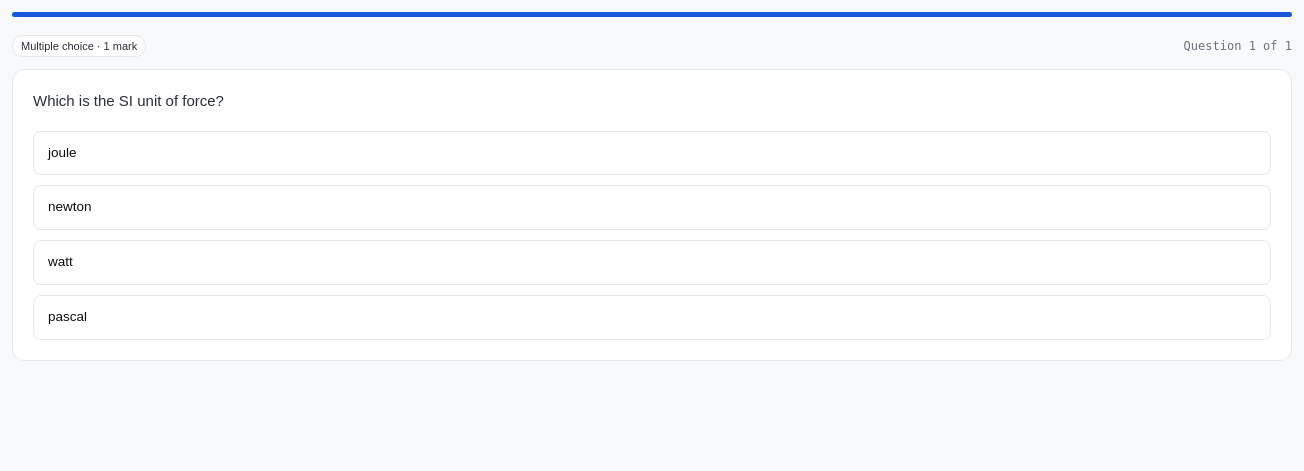
it: offline mode: the server could not load the attempt (research R19) › sends the stored attempt token when answering
The width and height of the screenshot is (1304, 471).
Click the button "newton": click(70, 207) [33,185,1271,230]
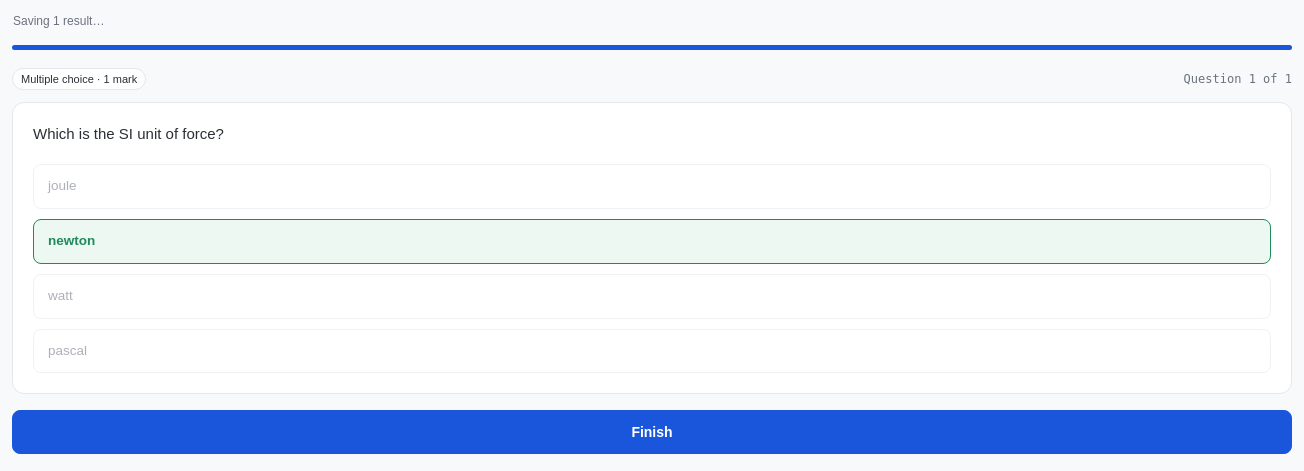
Expected: the button "Finish" is shown
# the results screen is built from local marks while the server could not say
Click the button "Finish": click(652, 432) [12,410,1292,454]
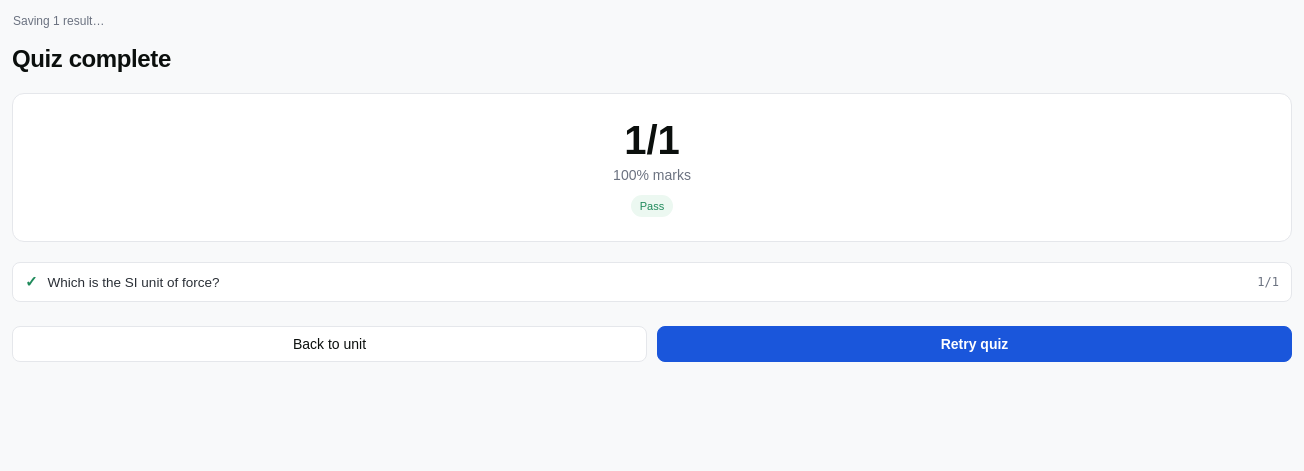
Expected: the heading "Quiz complete" is shown, [12,45,171,72]
Expected: the text "100% marks" is shown, [613,167,691,183]
